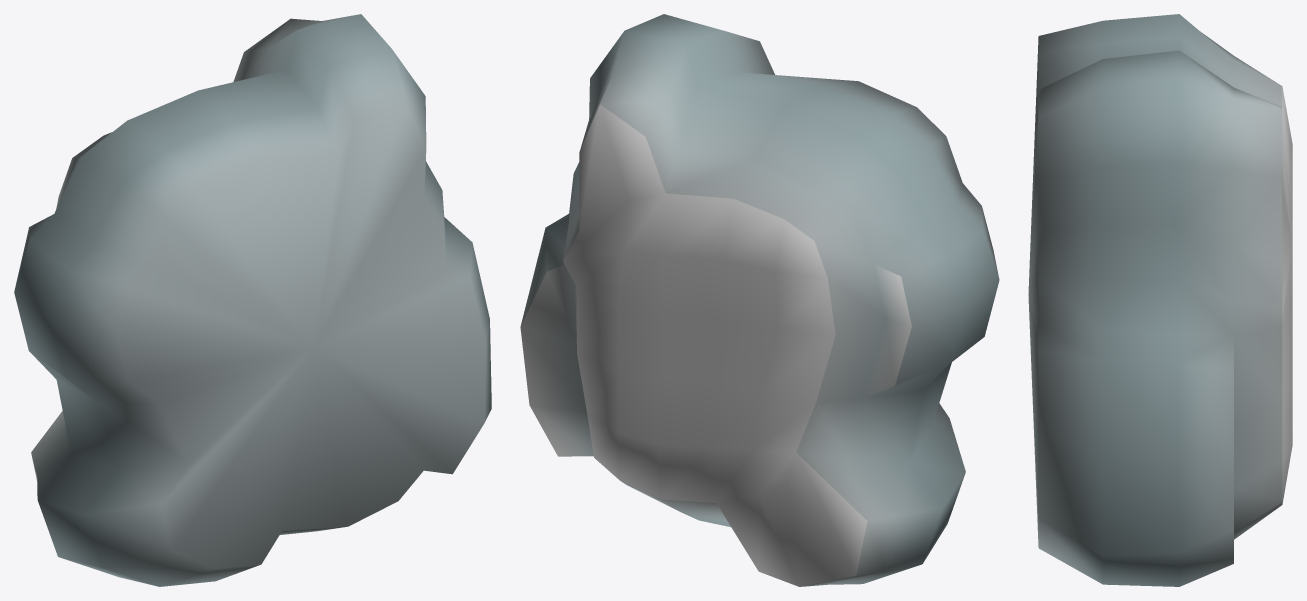
The model's file is IceFloe.006.glb.
3 renders of one model, left to right at view 1: azimuth 30°, elevation 25°; view 2: azimuth 150°, elevation 25°; view 3: azimuth 270°, elevation 25°, orthographic. The views are drawn at different scales.
Parts seen in each view (by area): view 1: IceFloe.006; view 2: IceFloe.006; view 3: IceFloe.006.
Boxes of the visible parts, left/top/right/bottom form: IceFloe.006: left=14, top=14, right=491, bottom=586; IceFloe.006: left=520, top=14, right=999, bottom=586; IceFloe.006: left=1028, top=14, right=1292, bottom=586.
Bounding box in the file's own units: 293 × 325 × 141.
